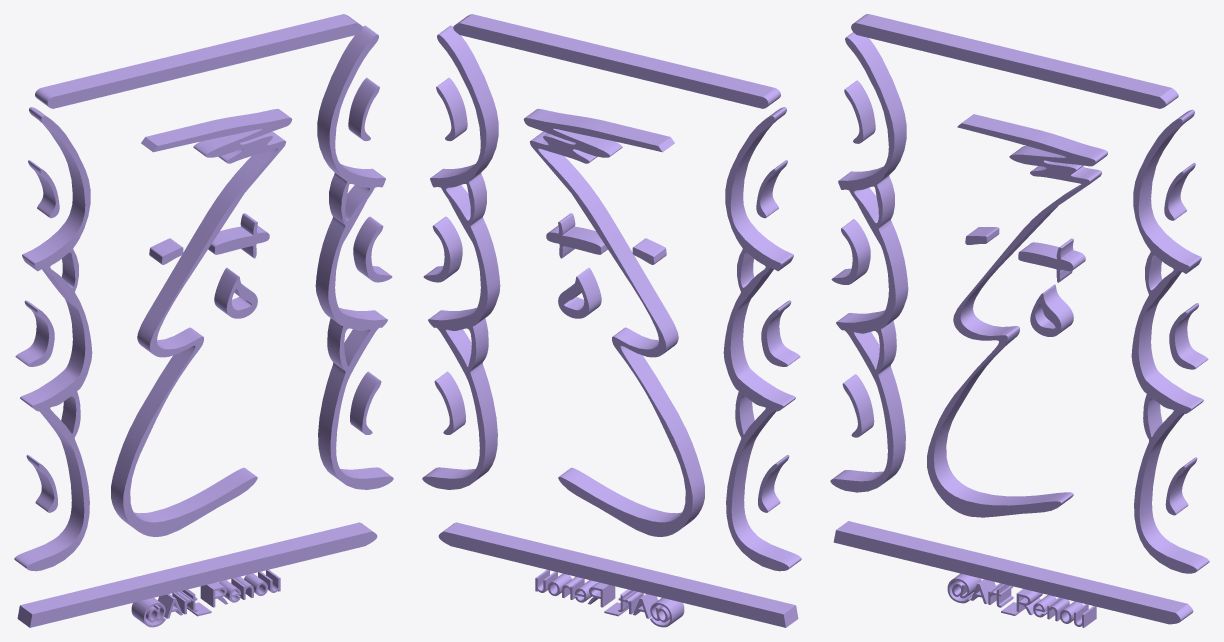
Rendered from Bujeok_julien.gltf.
The picture shows the model from 3 angles, left to right: view 1: azimuth 30°, elevation 25°; view 2: azimuth 150°, elevation 25°; view 3: azimuth 330°, elevation 25°; orthographic projection.
Parts seen in each view (by area): view 1: Body9, Body10, Body1, Body12, Body13, Body6, Body5, Body4, Body11, Body24, Body3, Body25 (+3 smaller); view 2: Body9, Body10, Body1, Body12, Body13, Body6, Body5, Body4, Body11, Body24, Body3, Body25 (+3 smaller); view 3: Body1, Body9, Body10, Body12, Body13, Body6, Body5, Body11, Body4, Body2, Body25, Body24 (+2 smaller).
Part boxes in pixels (x1,y1,x2,y2): Body9: [111, 108, 292, 536]; Body10: [315, 25, 393, 489]; Body1: [14, 107, 92, 571]; Body12: [17, 522, 377, 627]; Body13: [35, 14, 362, 108]; Body6: [208, 213, 269, 258]; Body5: [214, 267, 257, 318]; Body4: [353, 216, 392, 282]; Body11: [15, 300, 54, 366]; Body24: [348, 77, 379, 141]; Body3: [350, 371, 381, 434]; Body25: [28, 160, 59, 218]; Body9: [523, 108, 704, 536]; Body10: [422, 25, 500, 489]; Body1: [723, 107, 801, 571]; Body12: [438, 522, 798, 627]; Body13: [453, 14, 780, 108]; Body6: [546, 213, 607, 258]; Body5: [558, 267, 601, 318]; Body4: [423, 216, 462, 282]; Body11: [761, 300, 800, 366]; Body24: [436, 77, 467, 141]; Body3: [434, 371, 465, 434]; Body25: [756, 160, 787, 218]; Body1: [830, 32, 908, 492]; Body9: [927, 114, 1107, 517]; Body10: [1131, 109, 1209, 573]; Body12: [833, 521, 1193, 624]; Body13: [851, 14, 1178, 108]; Body6: [1018, 238, 1085, 282]; Body5: [1030, 284, 1073, 336]; Body11: [831, 219, 870, 284]; Body4: [1169, 303, 1208, 369]; Body2: [842, 374, 874, 437]; Body25: [844, 80, 875, 143]; Body24: [1164, 162, 1195, 220].
Size of the model in its own units: 0.1701 by 0.2459 by 0.01.
